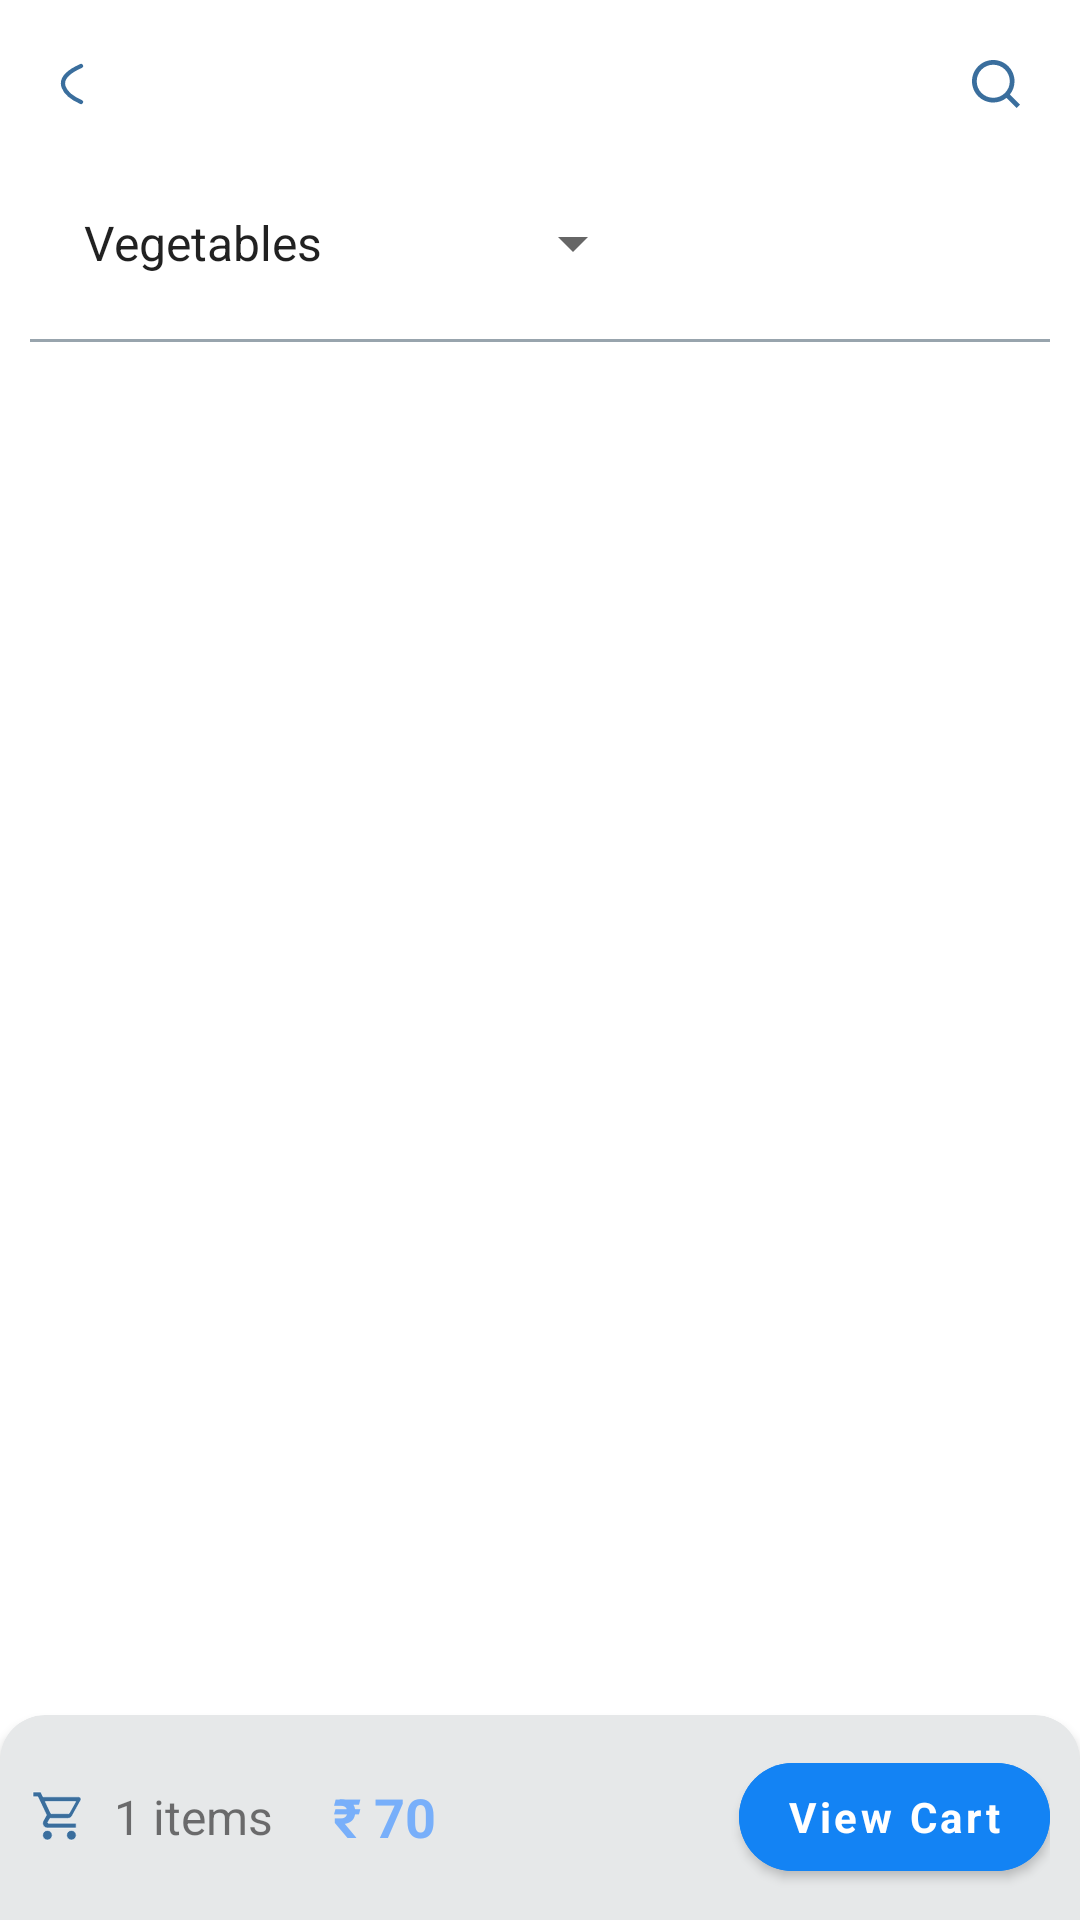

Screen size 1080px x 1920px. Icon name, then its center in pixels as (x,y):
back: (72,84)
search: (996,84)
